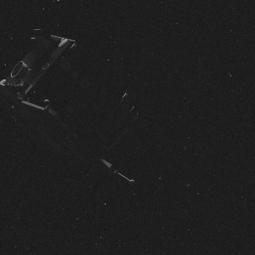proba_2: (18, 29, 167, 190)
